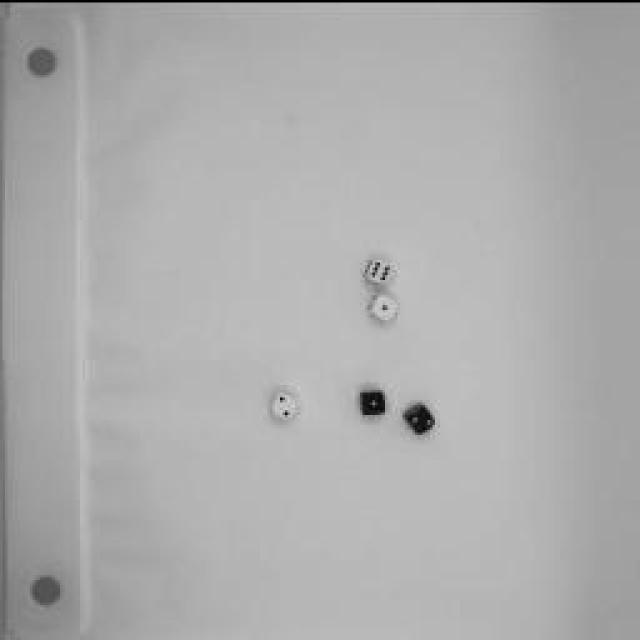dice_1: (365, 285, 405, 325), (354, 382, 391, 418)
dice_2: (398, 392, 440, 438), (265, 385, 305, 425)
dice_6: (356, 252, 396, 288)
